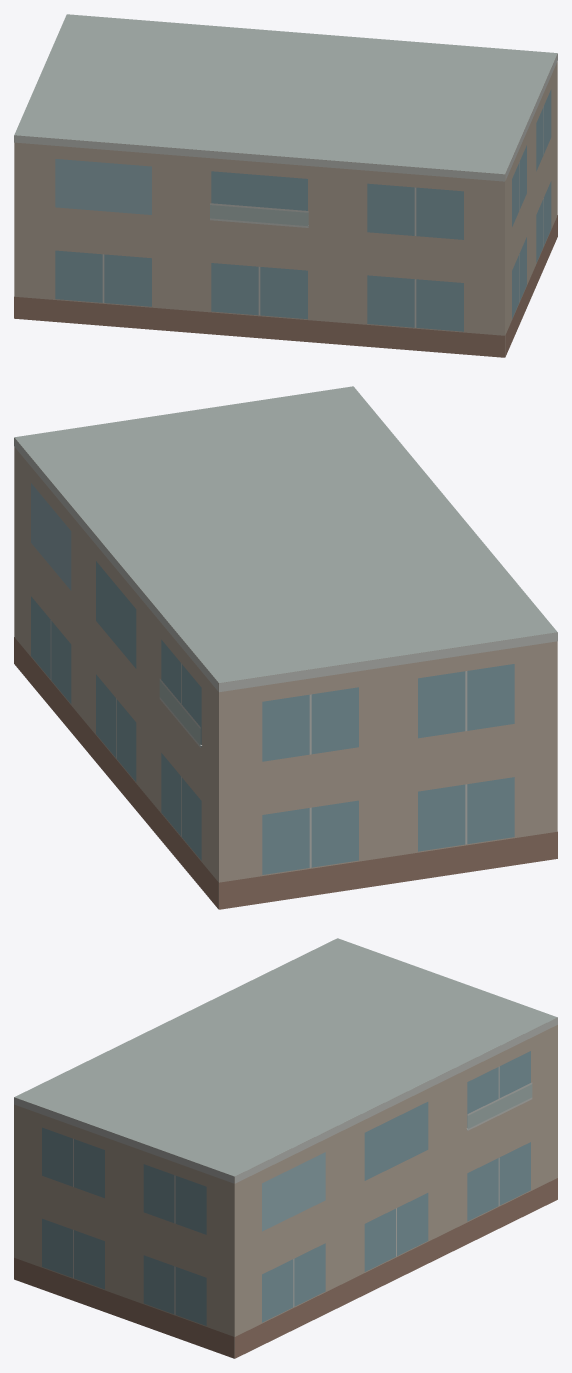
Rendered from survey-upis-32808898.glb.
3 views of the same model, one above another, from view 1: azimuth 30°, elevation 25°; view 2: azimuth 150°, elevation 25°; view 3: azimuth 270°, elevation 25° (orthographic). The views are drawn at different scales.
Parts seen in each view (by area): view 1: survey-upis-32808898.tmp; view 2: survey-upis-32808898.tmp; view 3: survey-upis-32808898.tmp.
Boxes of the visible parts, x1=… form: survey-upis-32808898.tmp: x1=14, y1=14, x2=557, y2=357; survey-upis-32808898.tmp: x1=14, y1=386, x2=557, y2=909; survey-upis-32808898.tmp: x1=14, y1=938, x2=557, y2=1358.
Size of the model in its own units: 17.13 by 6.1 by 16.51.
